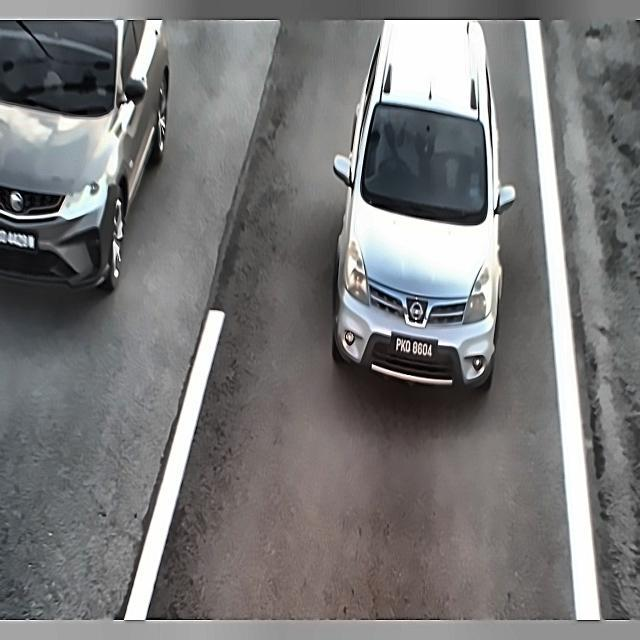car: (386, 331, 441, 369), (0, 223, 39, 261)
